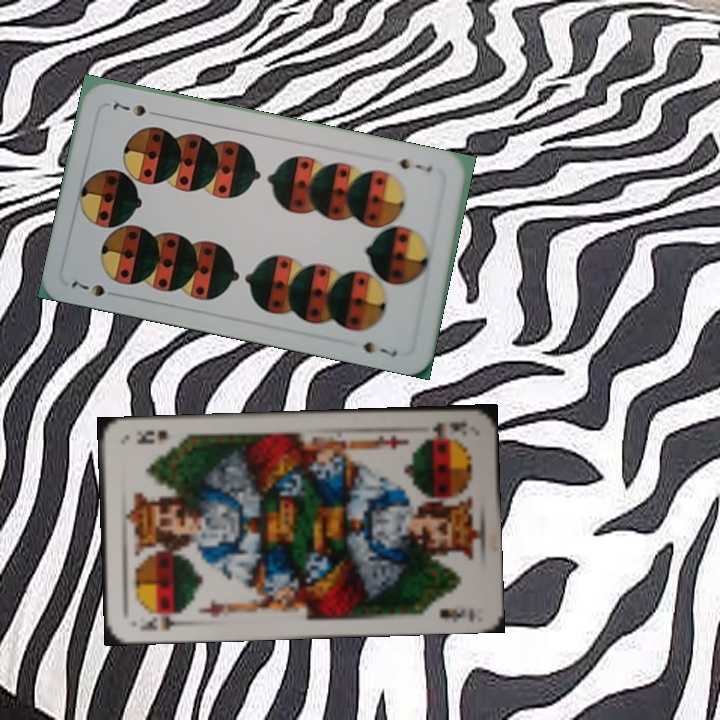S7: (67, 276, 108, 300), (395, 154, 435, 175)
SK: (135, 608, 188, 634), (420, 417, 469, 440)
